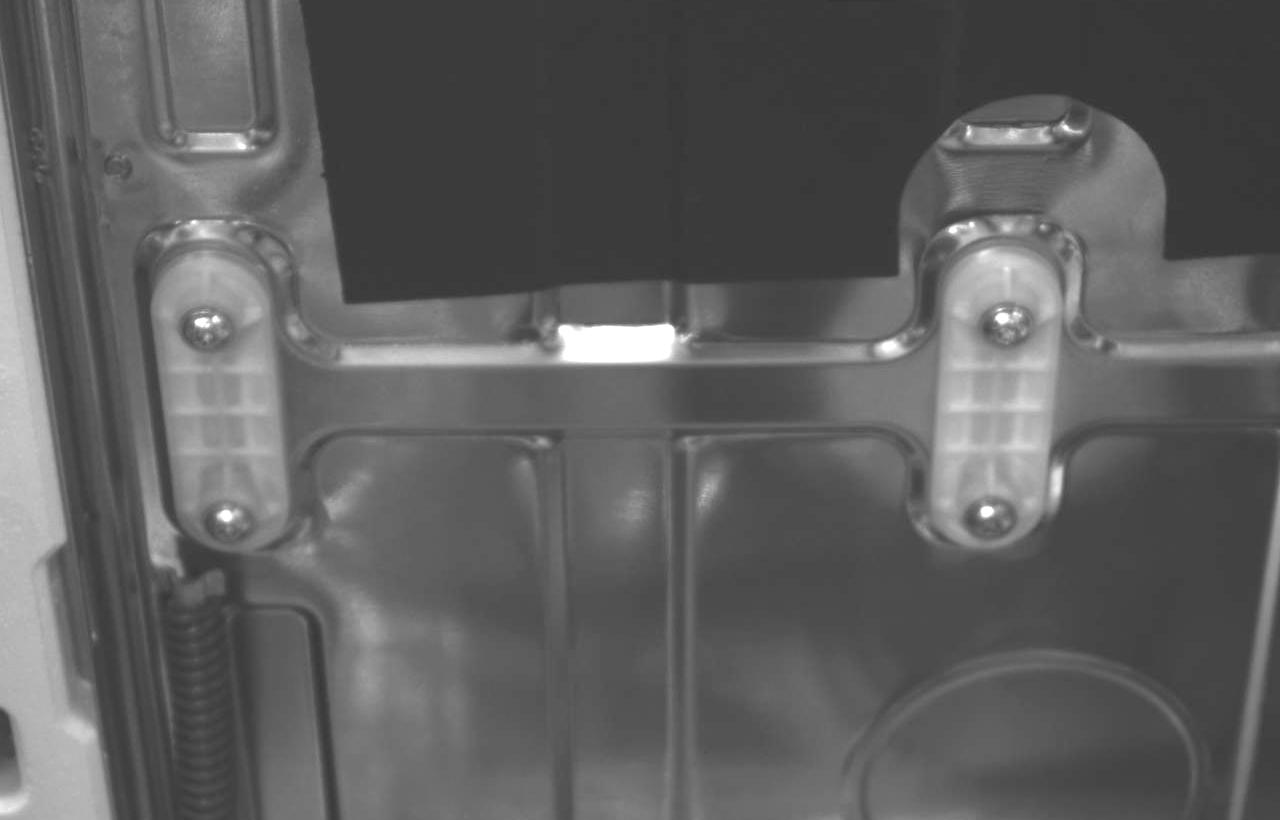vida-ok: (169, 289, 256, 367), (971, 297, 1059, 370), (185, 491, 266, 555), (953, 488, 1029, 547)
